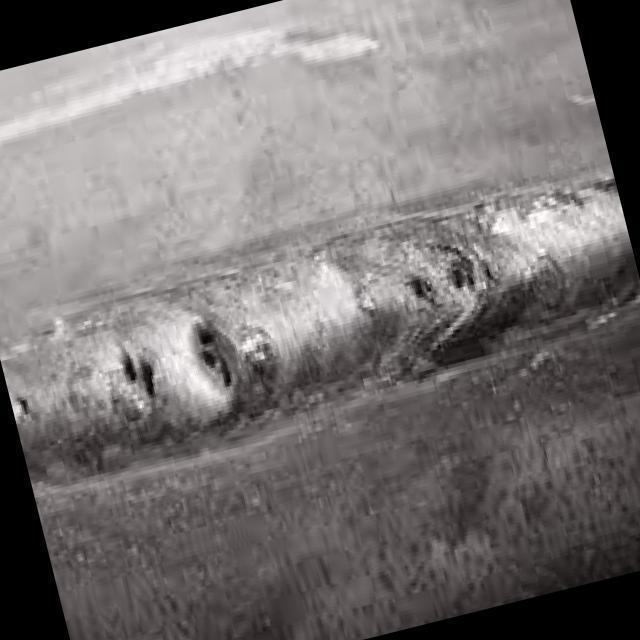defect: (185, 315, 242, 400), (119, 341, 164, 408), (445, 243, 502, 295), (405, 258, 447, 308), (13, 386, 38, 421)
